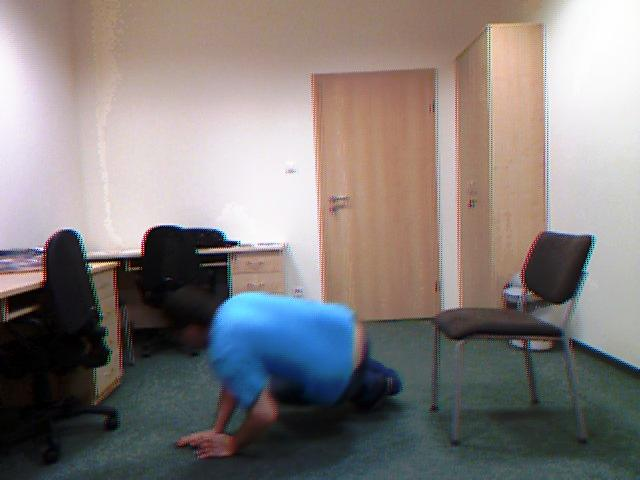fall: (156, 275, 411, 466)
